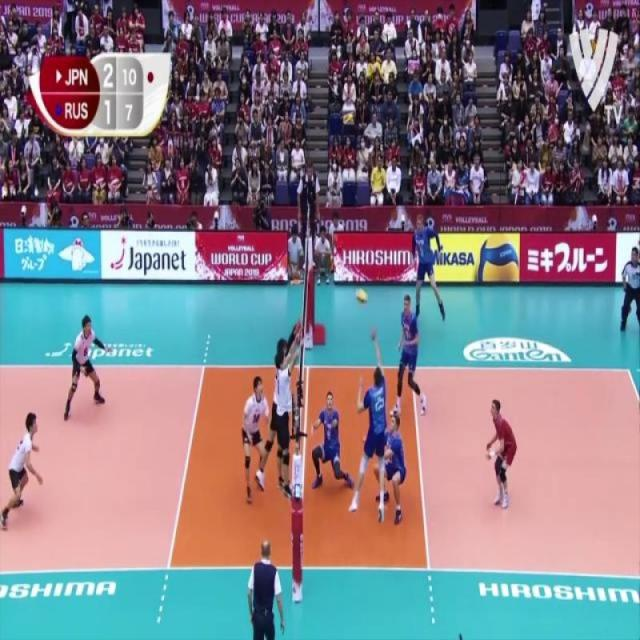volleyball: (478, 234, 518, 284), (356, 290, 369, 304)
